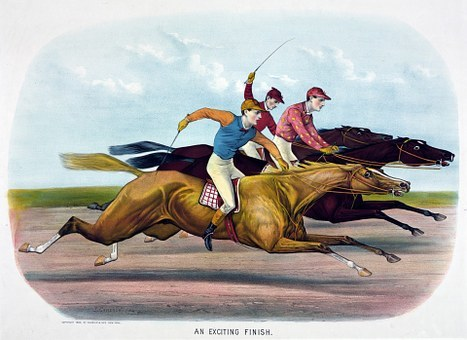horse: (13, 159, 411, 278), (112, 134, 456, 236)
person: (173, 91, 290, 256), (268, 81, 336, 159), (235, 67, 283, 160)
